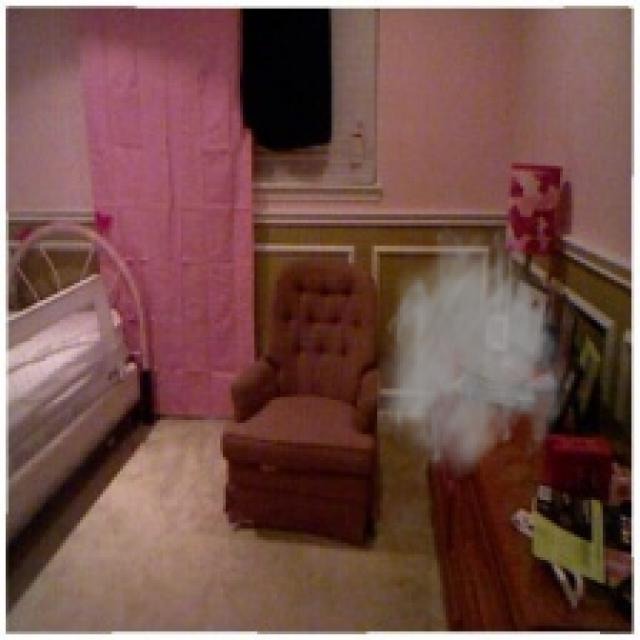smoke: (377, 220, 577, 483)
